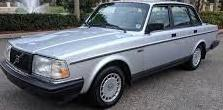Cars: (1, 3, 219, 108)
